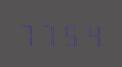five: (60, 19, 80, 47)
four: (81, 20, 101, 47)
seven: (18, 19, 38, 46), (39, 19, 59, 46)
